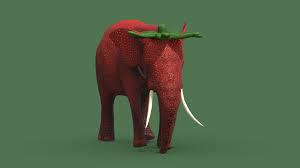strawberry-elephant: (93, 20, 196, 153)
